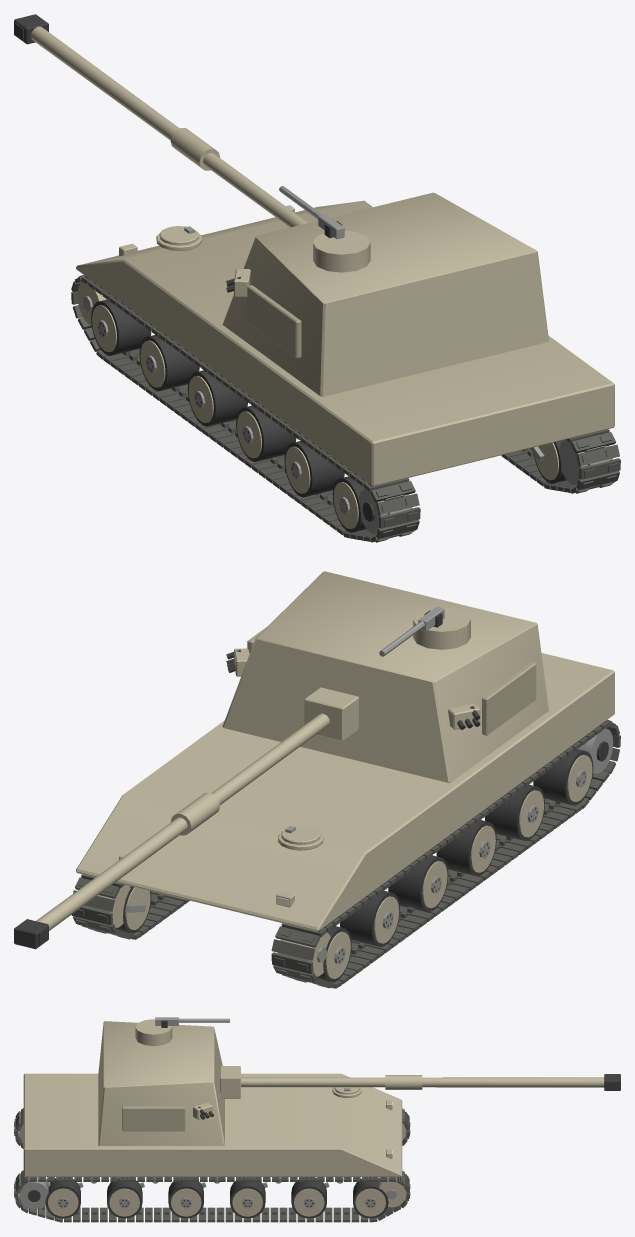
Rendered from rus_spg_msta.glb.
3 renders of one model, top to bottom at view 1: azimuth 30°, elevation 25°; view 2: azimuth 150°, elevation 25°; view 3: azimuth 270°, elevation 25°, orthographic. The views are drawn at different scales.
Parts seen in each view (by area): view 1: body, turret, barrel; view 2: body, turret, barrel; view 3: body, turret, barrel.
Part boxes in pixels (x1=…): body: x1=71, y1=200, x2=620, y2=542; turret: x1=222, y1=186, x2=548, y2=396; barrel: x1=14, y1=14, x2=307, y2=227; body: x1=71, y1=653, x2=620, y2=988; turret: x1=222, y1=571, x2=548, y2=783; barrel: x1=14, y1=687, x2=358, y2=949; body: x1=14, y1=1073, x2=410, y2=1222; turret: x1=98, y1=1017, x2=229, y2=1145; barrel: x1=220, y1=1066, x2=620, y2=1098.
Bounding box in the file's own units: 3.54 × 3.19 × 11.55.
